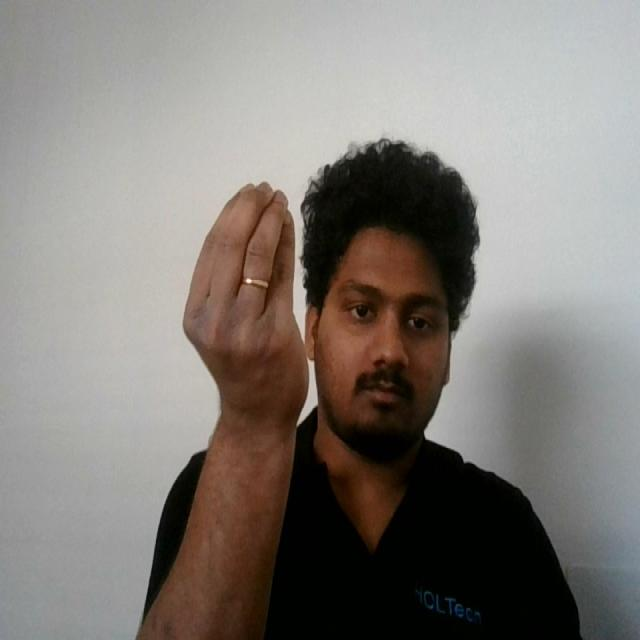Please: (172, 174, 321, 436)
